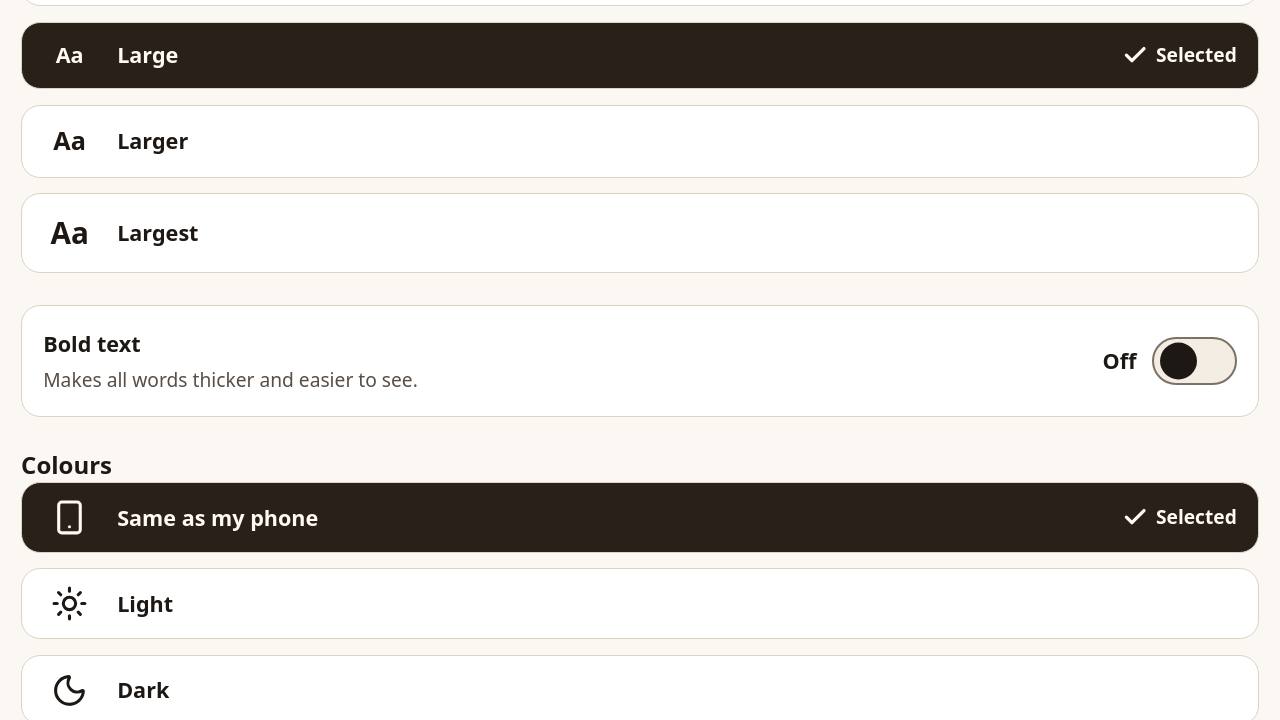
Test: settings change real behaviour › switches report On/Off in words and in aria-checked
(page scrolled)
Step 1. Click the switch labelled "Bold text" → (92, 343), box [21, 305, 1259, 417]
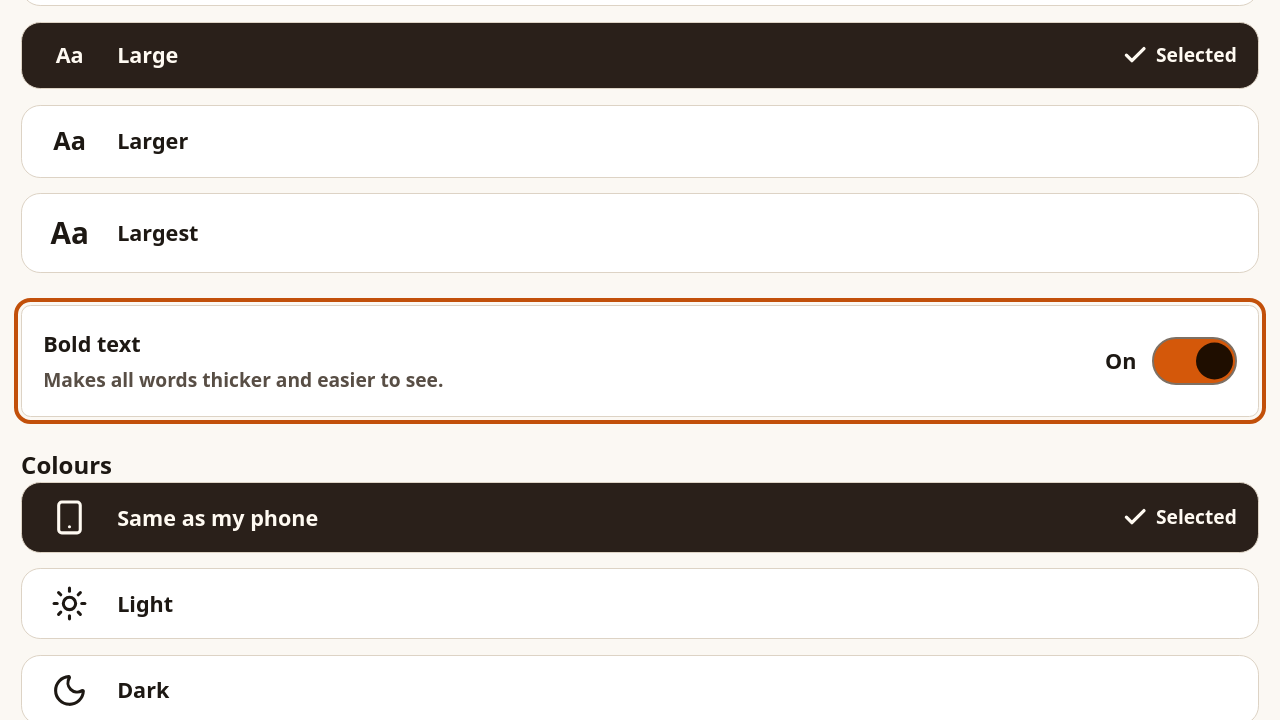
Check: the switch labelled "Bold text" shows "On", box [21, 305, 1259, 417]
